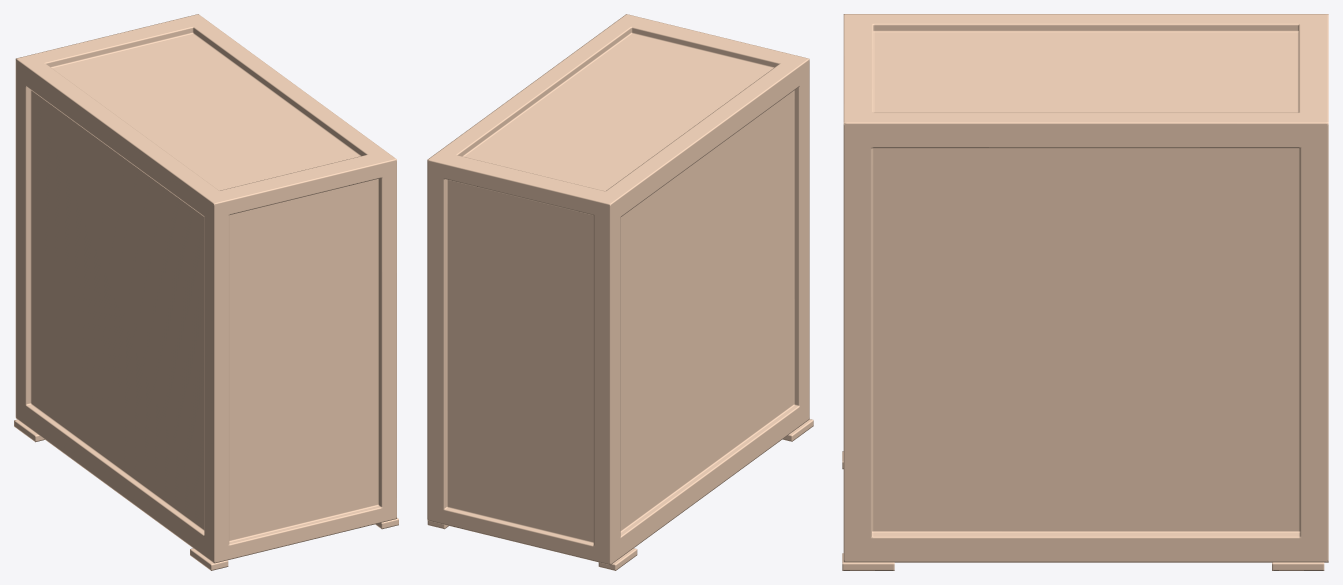
The model's file is OriginBox.fbx.
3 views of the same model, side by side, from view 1: azimuth 30°, elevation 25°; view 2: azimuth 150°, elevation 25°; view 3: azimuth 270°, elevation 25° (orthographic). The views are drawn at different scales.
Visible parts, largest first — view 1: Cube; view 2: Cube; view 3: Cube.
Part boxes in pixels (box(x1,y1,x2,y2)): Cube: box(14, 14, 398, 570); Cube: box(427, 14, 813, 570); Cube: box(842, 14, 1328, 570).
Size of the model in its own units: 88.73 by 165 by 163.
